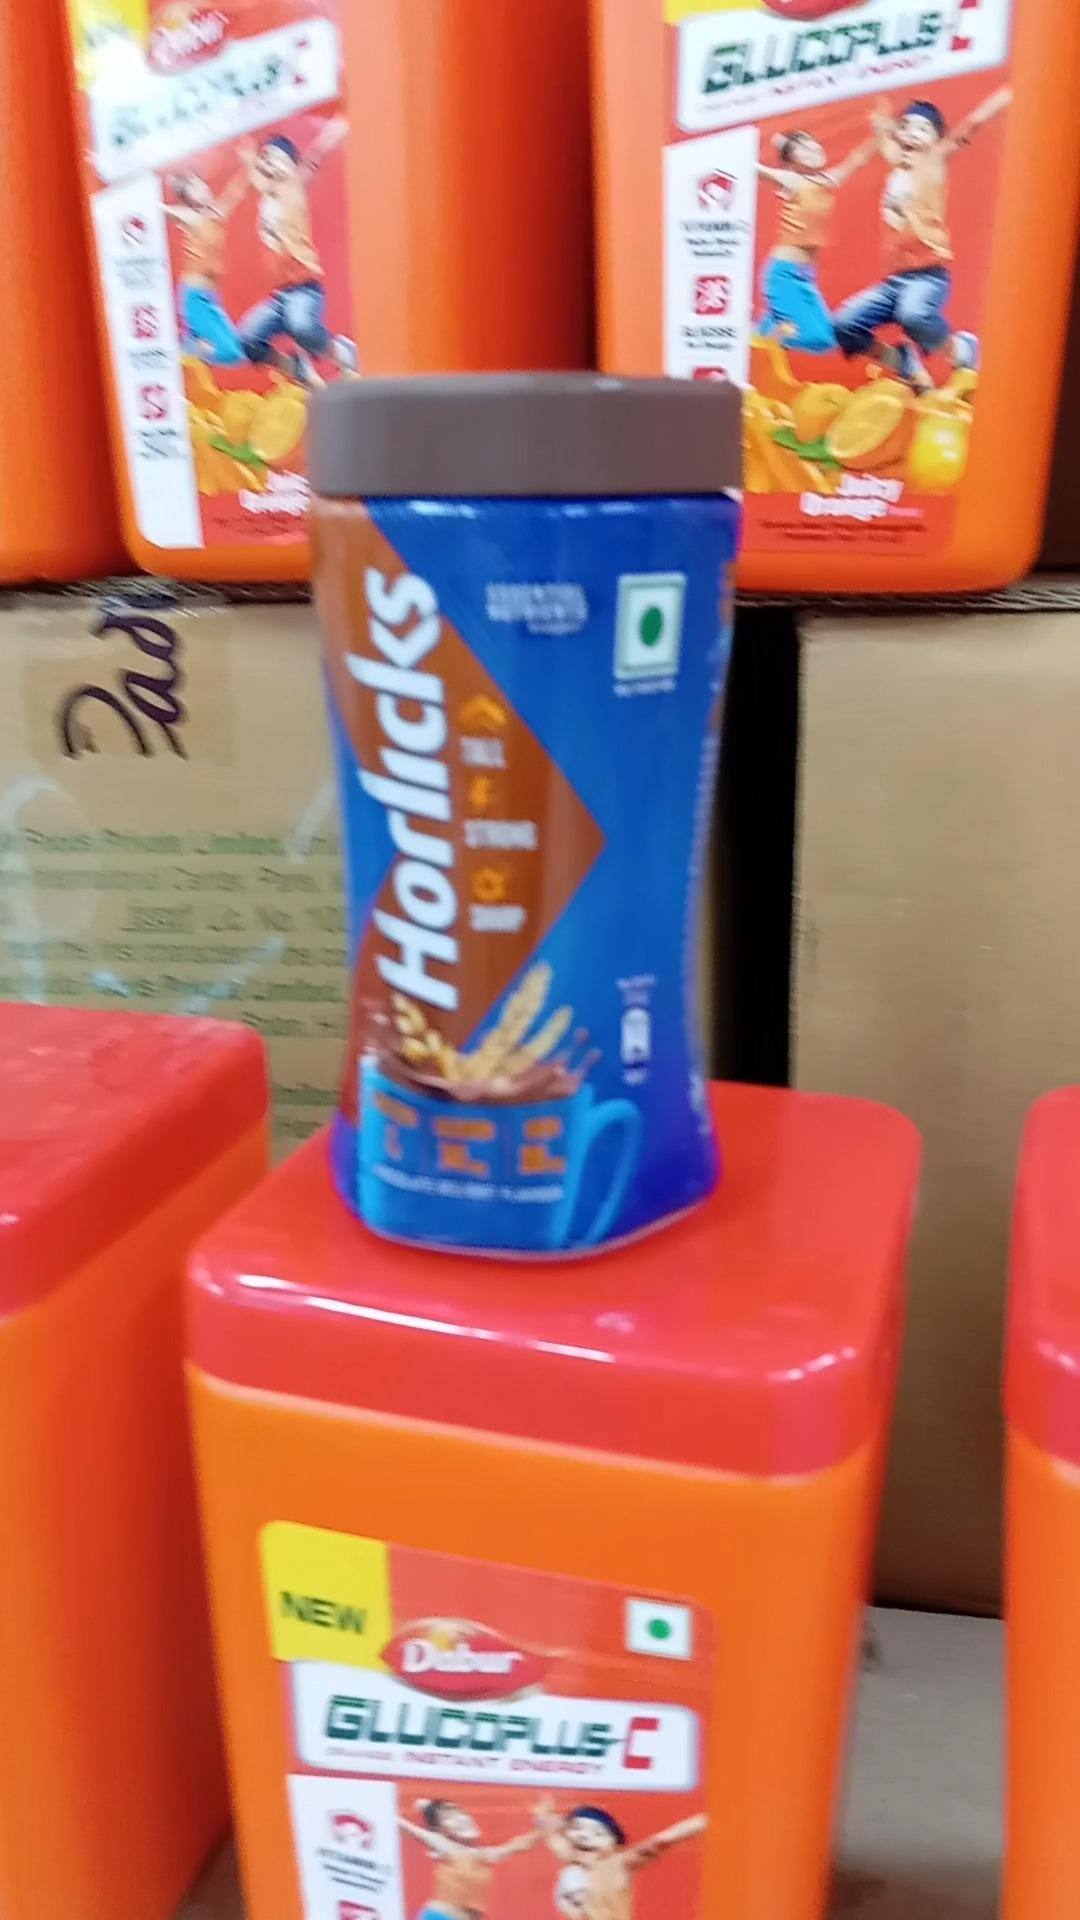HORLICK_CHOCOLATE_200_G_JAR: (322, 339, 721, 1255)
